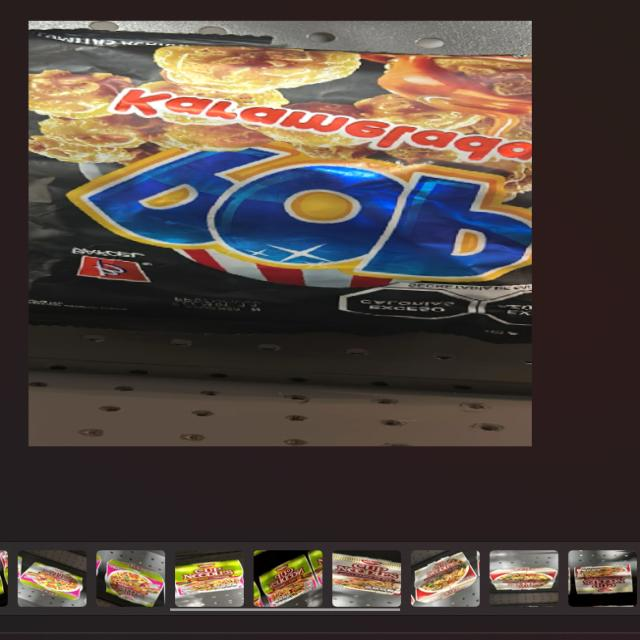popKarameladas: (52, 34, 542, 340)
